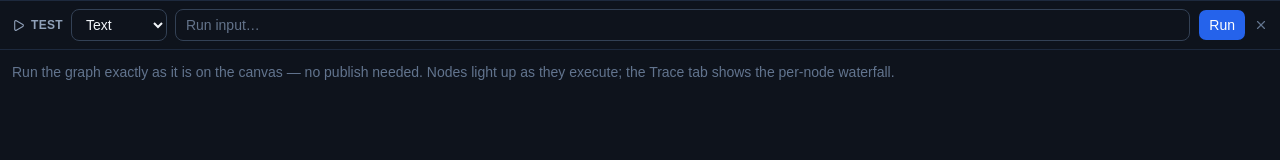
Test: TestPanel › streams a run of the current IR and mirrors node spans onto the canvas
The image size is (1280, 160).
In the field labelled "Run input": (683, 25) [175,9,1190,41], type "hi"
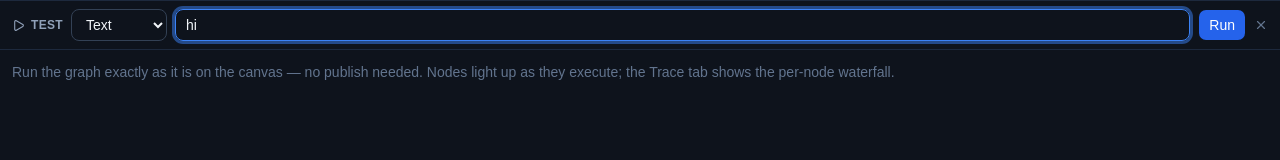
Click the button "Run": (1222, 25) [1198,9,1246,41]
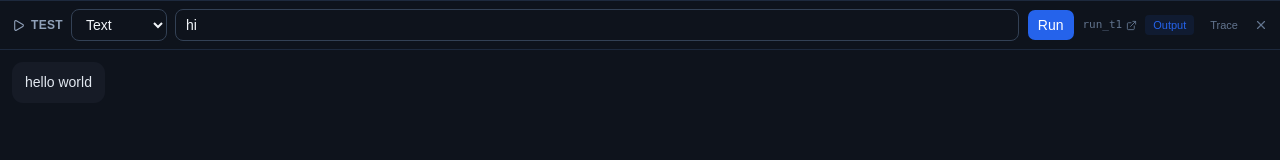
Expected: the text "hello world" is shown, [25,71,92,94]
